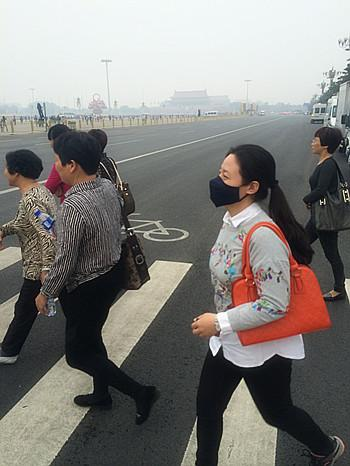bus: (332, 82, 350, 155), (204, 111, 219, 120)
car: (323, 98, 350, 137), (327, 104, 350, 147), (309, 103, 331, 124)
person: (190, 144, 344, 466), (34, 130, 162, 426), (1, 148, 77, 365), (291, 127, 350, 302), (38, 124, 88, 289), (79, 128, 118, 288), (1, 116, 9, 133)
